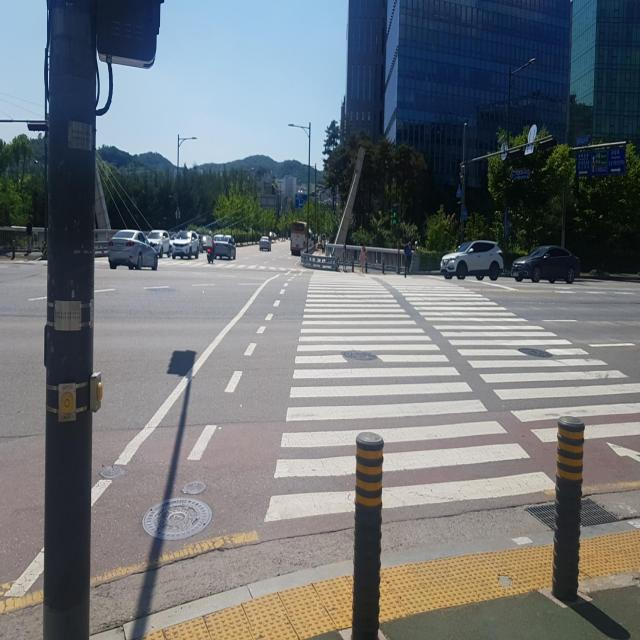횡단보도: (263, 268, 640, 524)
